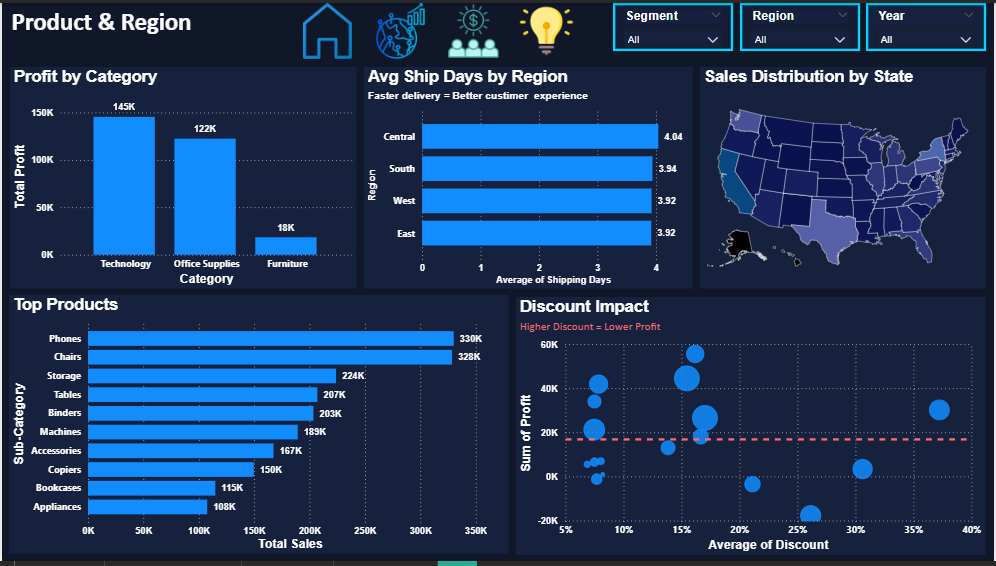

This screenshot's page, from the dashboard's own definition file:
{"tool":"powerbi","page":{"name":"Product & Region","canvas":[1280,720],"ordinal":1},"visuals":[{"type":"barChart","title":"Top Products","fields":{"Y":["Sample - Superstore.Total Sales"],"Category":["Sample - Superstore.Sub-Category"]},"box":[8.7,377.3,644.8,334],"z":0},{"type":"clusteredColumnChart","title":"Profit by Category","fields":{"Category":["Sample - Superstore.Category"],"Y":["Sample - Superstore.Total Profit"]},"box":[10.1,82.4,446.7,286.3],"z":1000},{"type":"scatterChart","title":"Discount Impact","fields":{"X":["Avg(Sample - Superstore.Discount)"],"Y":["Sum(Sample - Superstore.Profit)"],"Category":["Sample - Superstore.Sub-Category"],"Size":["Sample - Superstore.Total Sales"]},"box":[663.6,378.8,605.8,332.5],"z":2000},{"type":"shapeMap","title":"Sales Distribution by State","fields":{"Category":["Sample - Superstore.State"],"Value":["Sample - Superstore.Total Sales"]},"box":[900.7,82.4,368.7,286.3],"z":3000},{"type":"slicer","fields":{"Values":["Date Table.Year"]},"box":[1114.7,0,154.7,62.2],"z":4000},{"type":"slicer","fields":{"Values":["Sample - Superstore.Region"]},"box":[952.8,0,154.7,62.2],"z":5000},{"type":"barChart","title":"Avg Ship Days by Region","fields":{"Category":["Sample - Superstore.Region"],"Y":["Avg(Sample - Superstore.Shipping Days)"]},"box":[467,82.4,423.6,286.3],"z":6000},{"type":"image","box":[373,0,94,72.3],"z":7000},{"type":"image","box":[467,0,94,72.3],"z":8000},{"type":"image","box":[561,0,94,72.3],"z":9000},{"type":"slicer","fields":{"Values":["Sample - Superstore.Segment"]},"box":[788,0,154.7,62.2],"z":10000},{"type":"textbox","box":[0,0,261.7,72.3],"z":11000},{"type":"image","box":[654.9,0,94,72.3],"z":12000}]}

Visuals, with their boxes in screenshot pixels (x1, y1, x2, y2), scaled from the page's 1280x720 canvas onto the 996x566 screenshot:
"Top Products" barChart: {"left": 7, "top": 297, "right": 509, "bottom": 559}
"Profit by Category" clusteredColumnChart: {"left": 8, "top": 65, "right": 355, "bottom": 290}
"Discount Impact" scatterChart: {"left": 516, "top": 298, "right": 988, "bottom": 559}
"Sales Distribution by State" shapeMap: {"left": 701, "top": 65, "right": 988, "bottom": 290}
slicer - Date Table.Year: {"left": 867, "top": 0, "right": 988, "bottom": 49}
slicer - Sample - Superstore.Region: {"left": 741, "top": 0, "right": 862, "bottom": 49}
"Avg Ship Days by Region" barChart: {"left": 363, "top": 65, "right": 693, "bottom": 290}
image: {"left": 290, "top": 0, "right": 363, "bottom": 57}
image: {"left": 363, "top": 0, "right": 437, "bottom": 57}
image: {"left": 437, "top": 0, "right": 510, "bottom": 57}
slicer - Sample - Superstore.Segment: {"left": 613, "top": 0, "right": 734, "bottom": 49}
textbox: {"left": 0, "top": 0, "right": 204, "bottom": 57}
image: {"left": 510, "top": 0, "right": 583, "bottom": 57}
